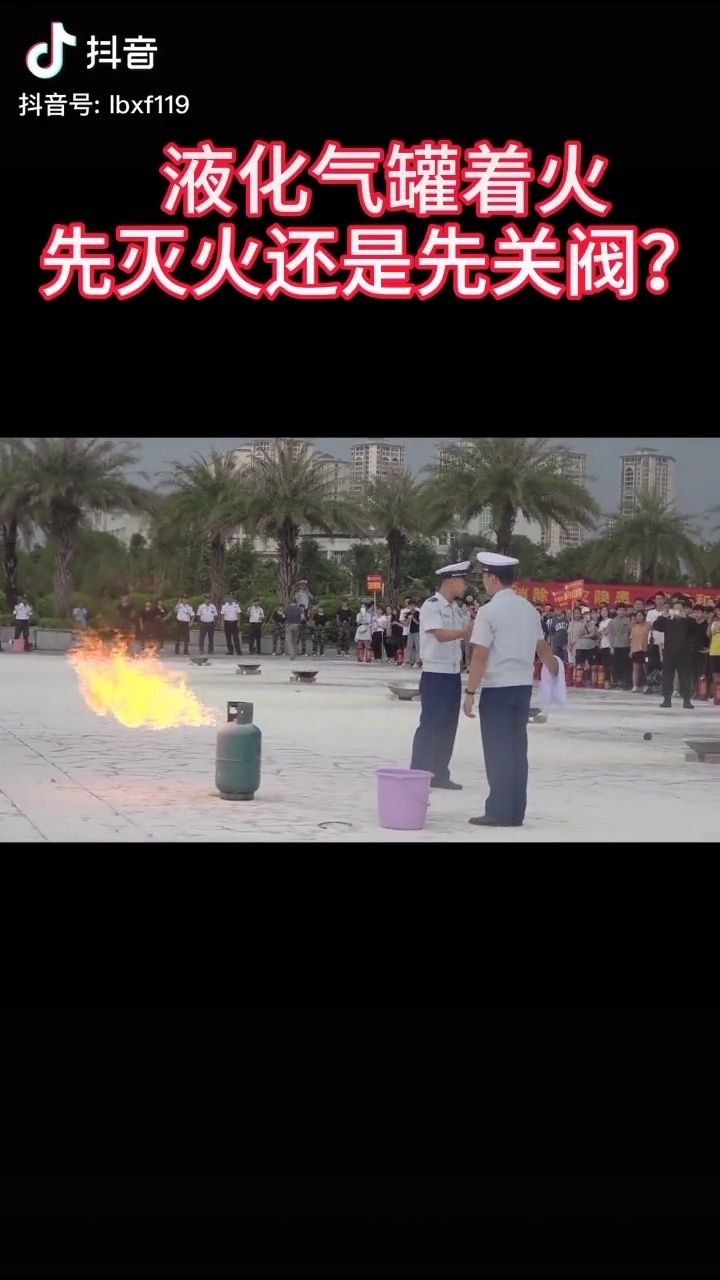fire: (55, 624, 210, 724)
